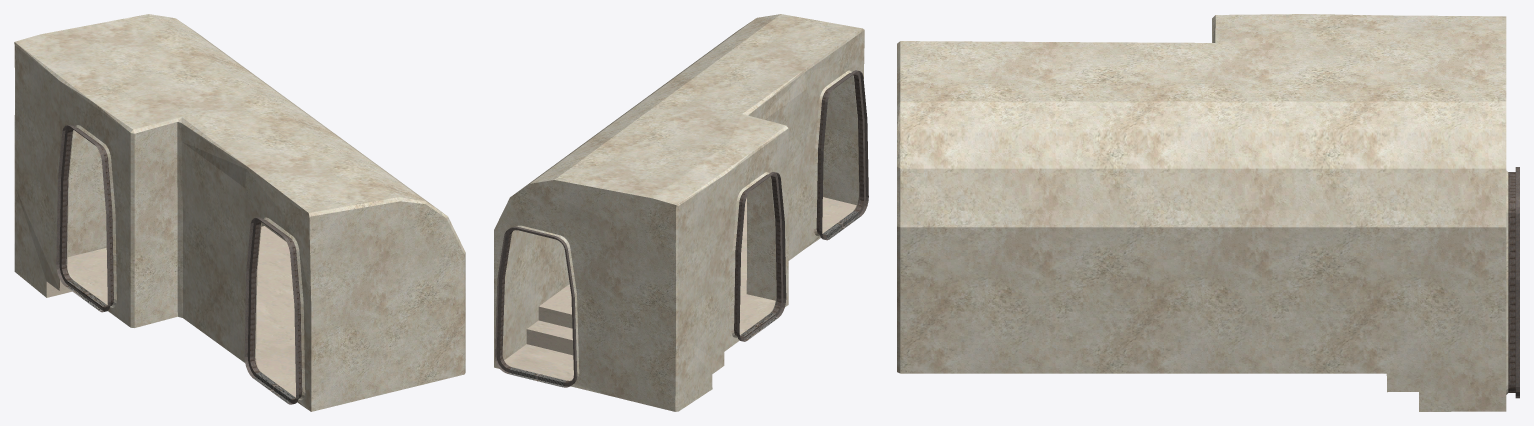
The model's file is thm_tato_house_sml_s01_fp1_r3_hall2_mesh_r3.fbx.
3 views of the same model, side by side, from view 1: azimuth 30°, elevation 25°; view 2: azimuth 150°, elevation 25°; view 3: azimuth 270°, elevation 25° (orthographic). The views are drawn at different scales.
Visible parts, largest first — view 1: mesh_node; view 2: mesh_node; view 3: mesh_node.
Boxes of the visible parts, box(x1,y1,x2,y2) form: mesh_node: box(14, 14, 465, 411); mesh_node: box(494, 14, 868, 411); mesh_node: box(897, 14, 1519, 411).
Bounding box in the file's own units: 4.39 × 4.48 × 9.09.
